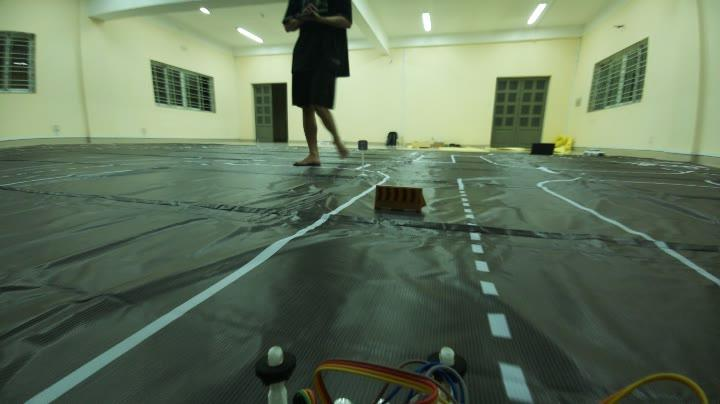roadblock: (366, 181, 430, 221)
